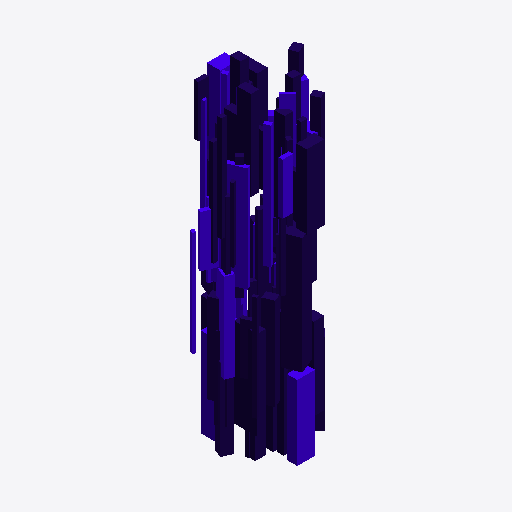
A Minecraft block model of 110 cuboids, rendered isometrically (azimuth 45°, elevation 35.3°) with the resource pack's own textures.
Visible parts, largest first — element 41, element 45, element 39, element 64, element 22, element 74, element 3, element 72, element 88, element 59, element 24, element 58 (+21 smaller).
Part boxes in pixels (left/top/right/bottom): element 41: left=281, top=220, right=311, bottom=371; element 45: left=296, top=133, right=324, bottom=234; element 39: left=287, top=366, right=314, bottom=465; element 64: left=234, top=317, right=265, bottom=436; element 22: left=211, top=160, right=249, bottom=289; element 74: left=237, top=82, right=258, bottom=196; element 3: left=261, top=291, right=279, bottom=406; element 72: left=216, top=268, right=234, bottom=379; element 88: left=263, top=121, right=272, bottom=266; element 59: left=215, top=360, right=233, bottom=456; element 24: left=217, top=113, right=226, bottom=238; element 58: left=308, top=310, right=323, bottom=414.
Size of the model in its own units: 2.32 by 7.6 by 2.42.